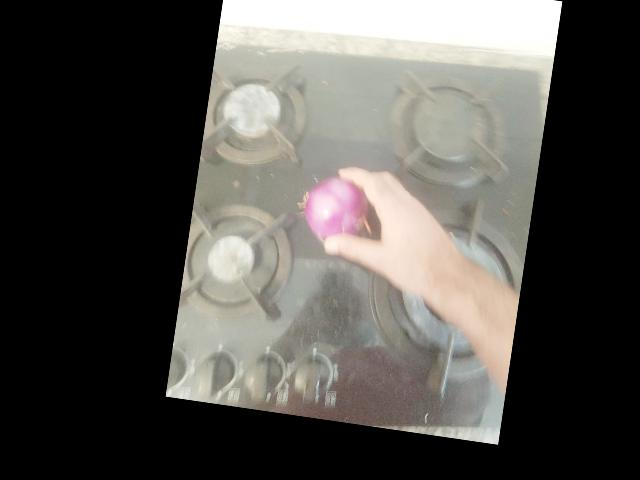onion: (269, 76, 341, 147)
